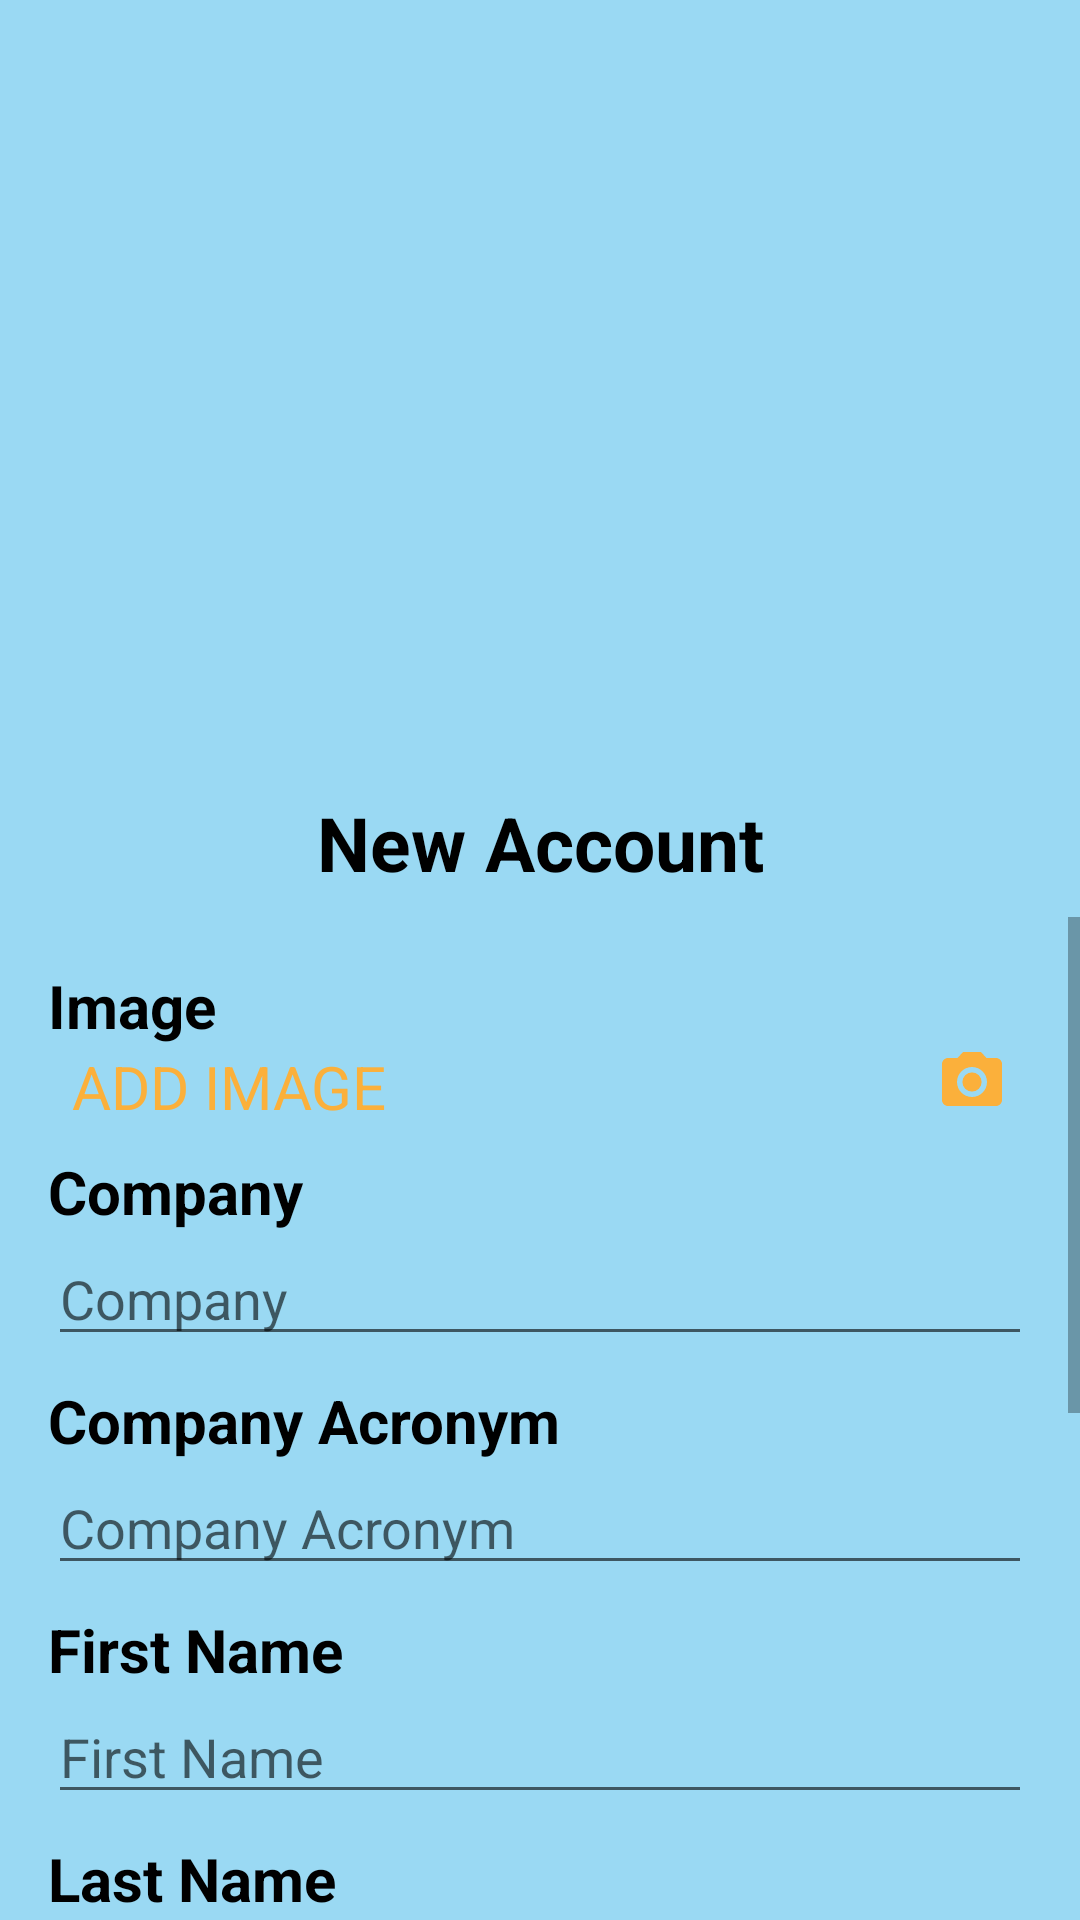

Locate icon controls on the screen. Image size 1080 x 1920, boxes as (x1, y1, x2, y2).
camera: (942, 1052, 1002, 1106)
